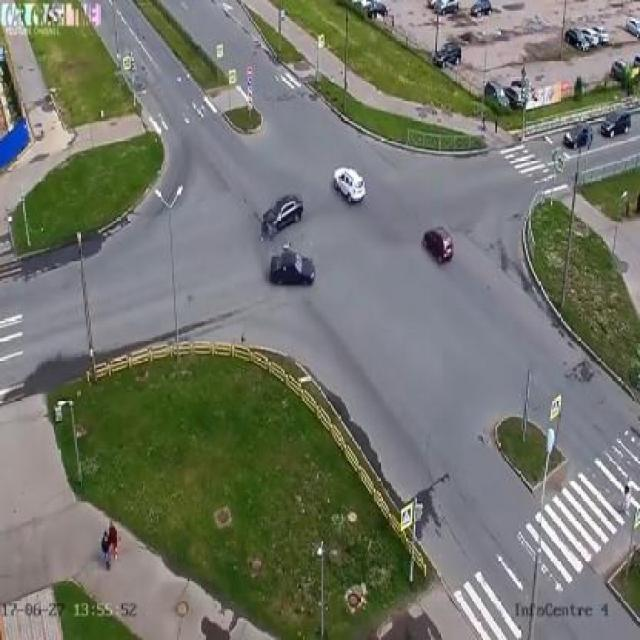accident: (255, 189, 330, 309)
